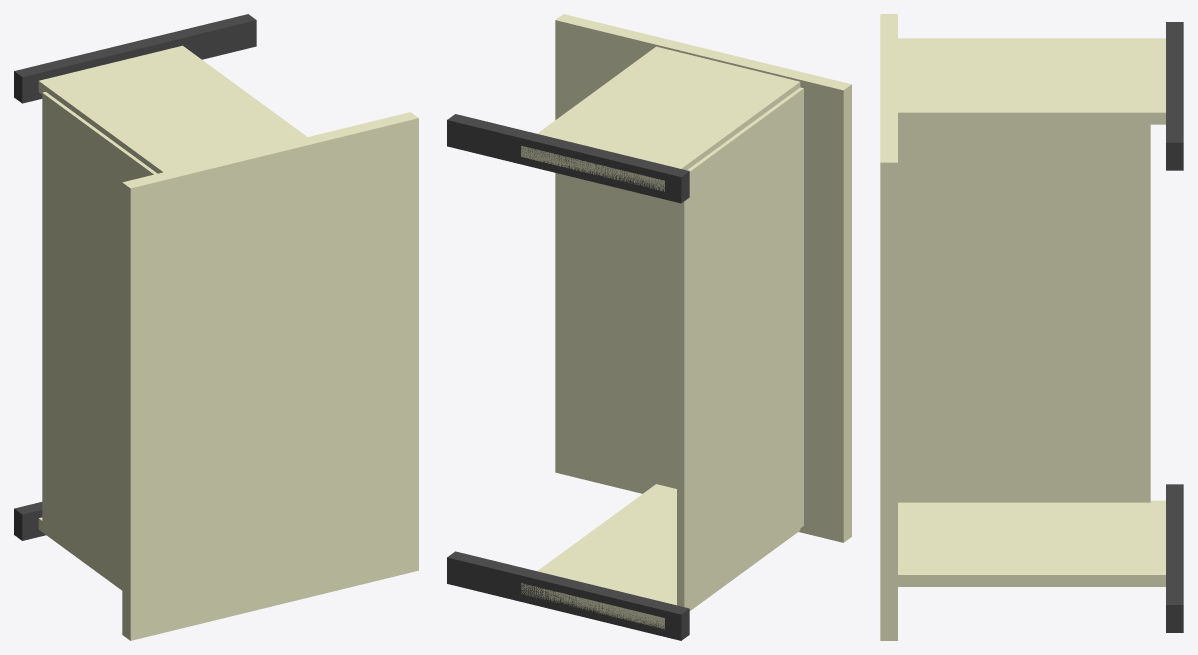
The model's file is nil_link_mesh.dae.
3 renders of one model, left to right at view 1: azimuth 30°, elevation 25°; view 2: azimuth 150°, elevation 25°; view 3: azimuth 270°, elevation 25°, orthographic. The views are drawn at different scales.
Visible parts, largest first — view 1: nil_link (×5); view 2: nil_link (×6); view 3: nil_link (×6).
Boxes of the visible parts, x1=… form: nil_link (×5): x1=14, y1=14, x2=418, y2=640; nil_link (×6): x1=447, y1=14, x2=851, y2=640; nil_link (×6): x1=880, y1=14, x2=1183, y2=640.
Size of the model in its own units: 0.8 by 1.23 by 0.69.
